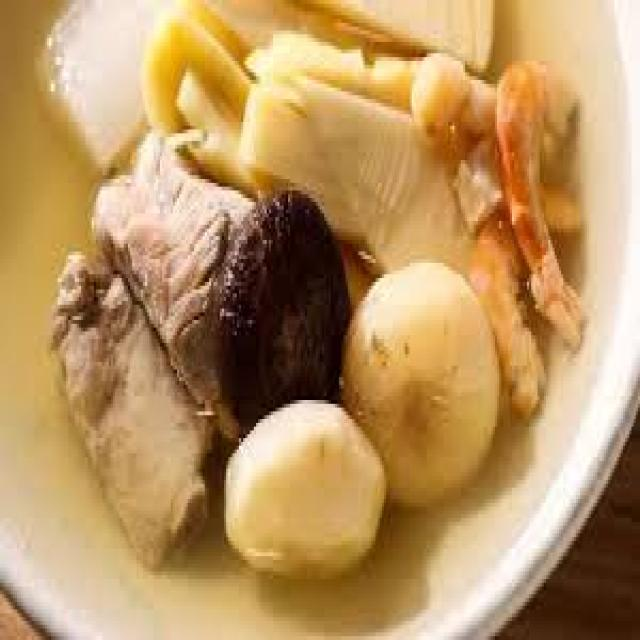food_waste: (49, 0, 578, 568)
